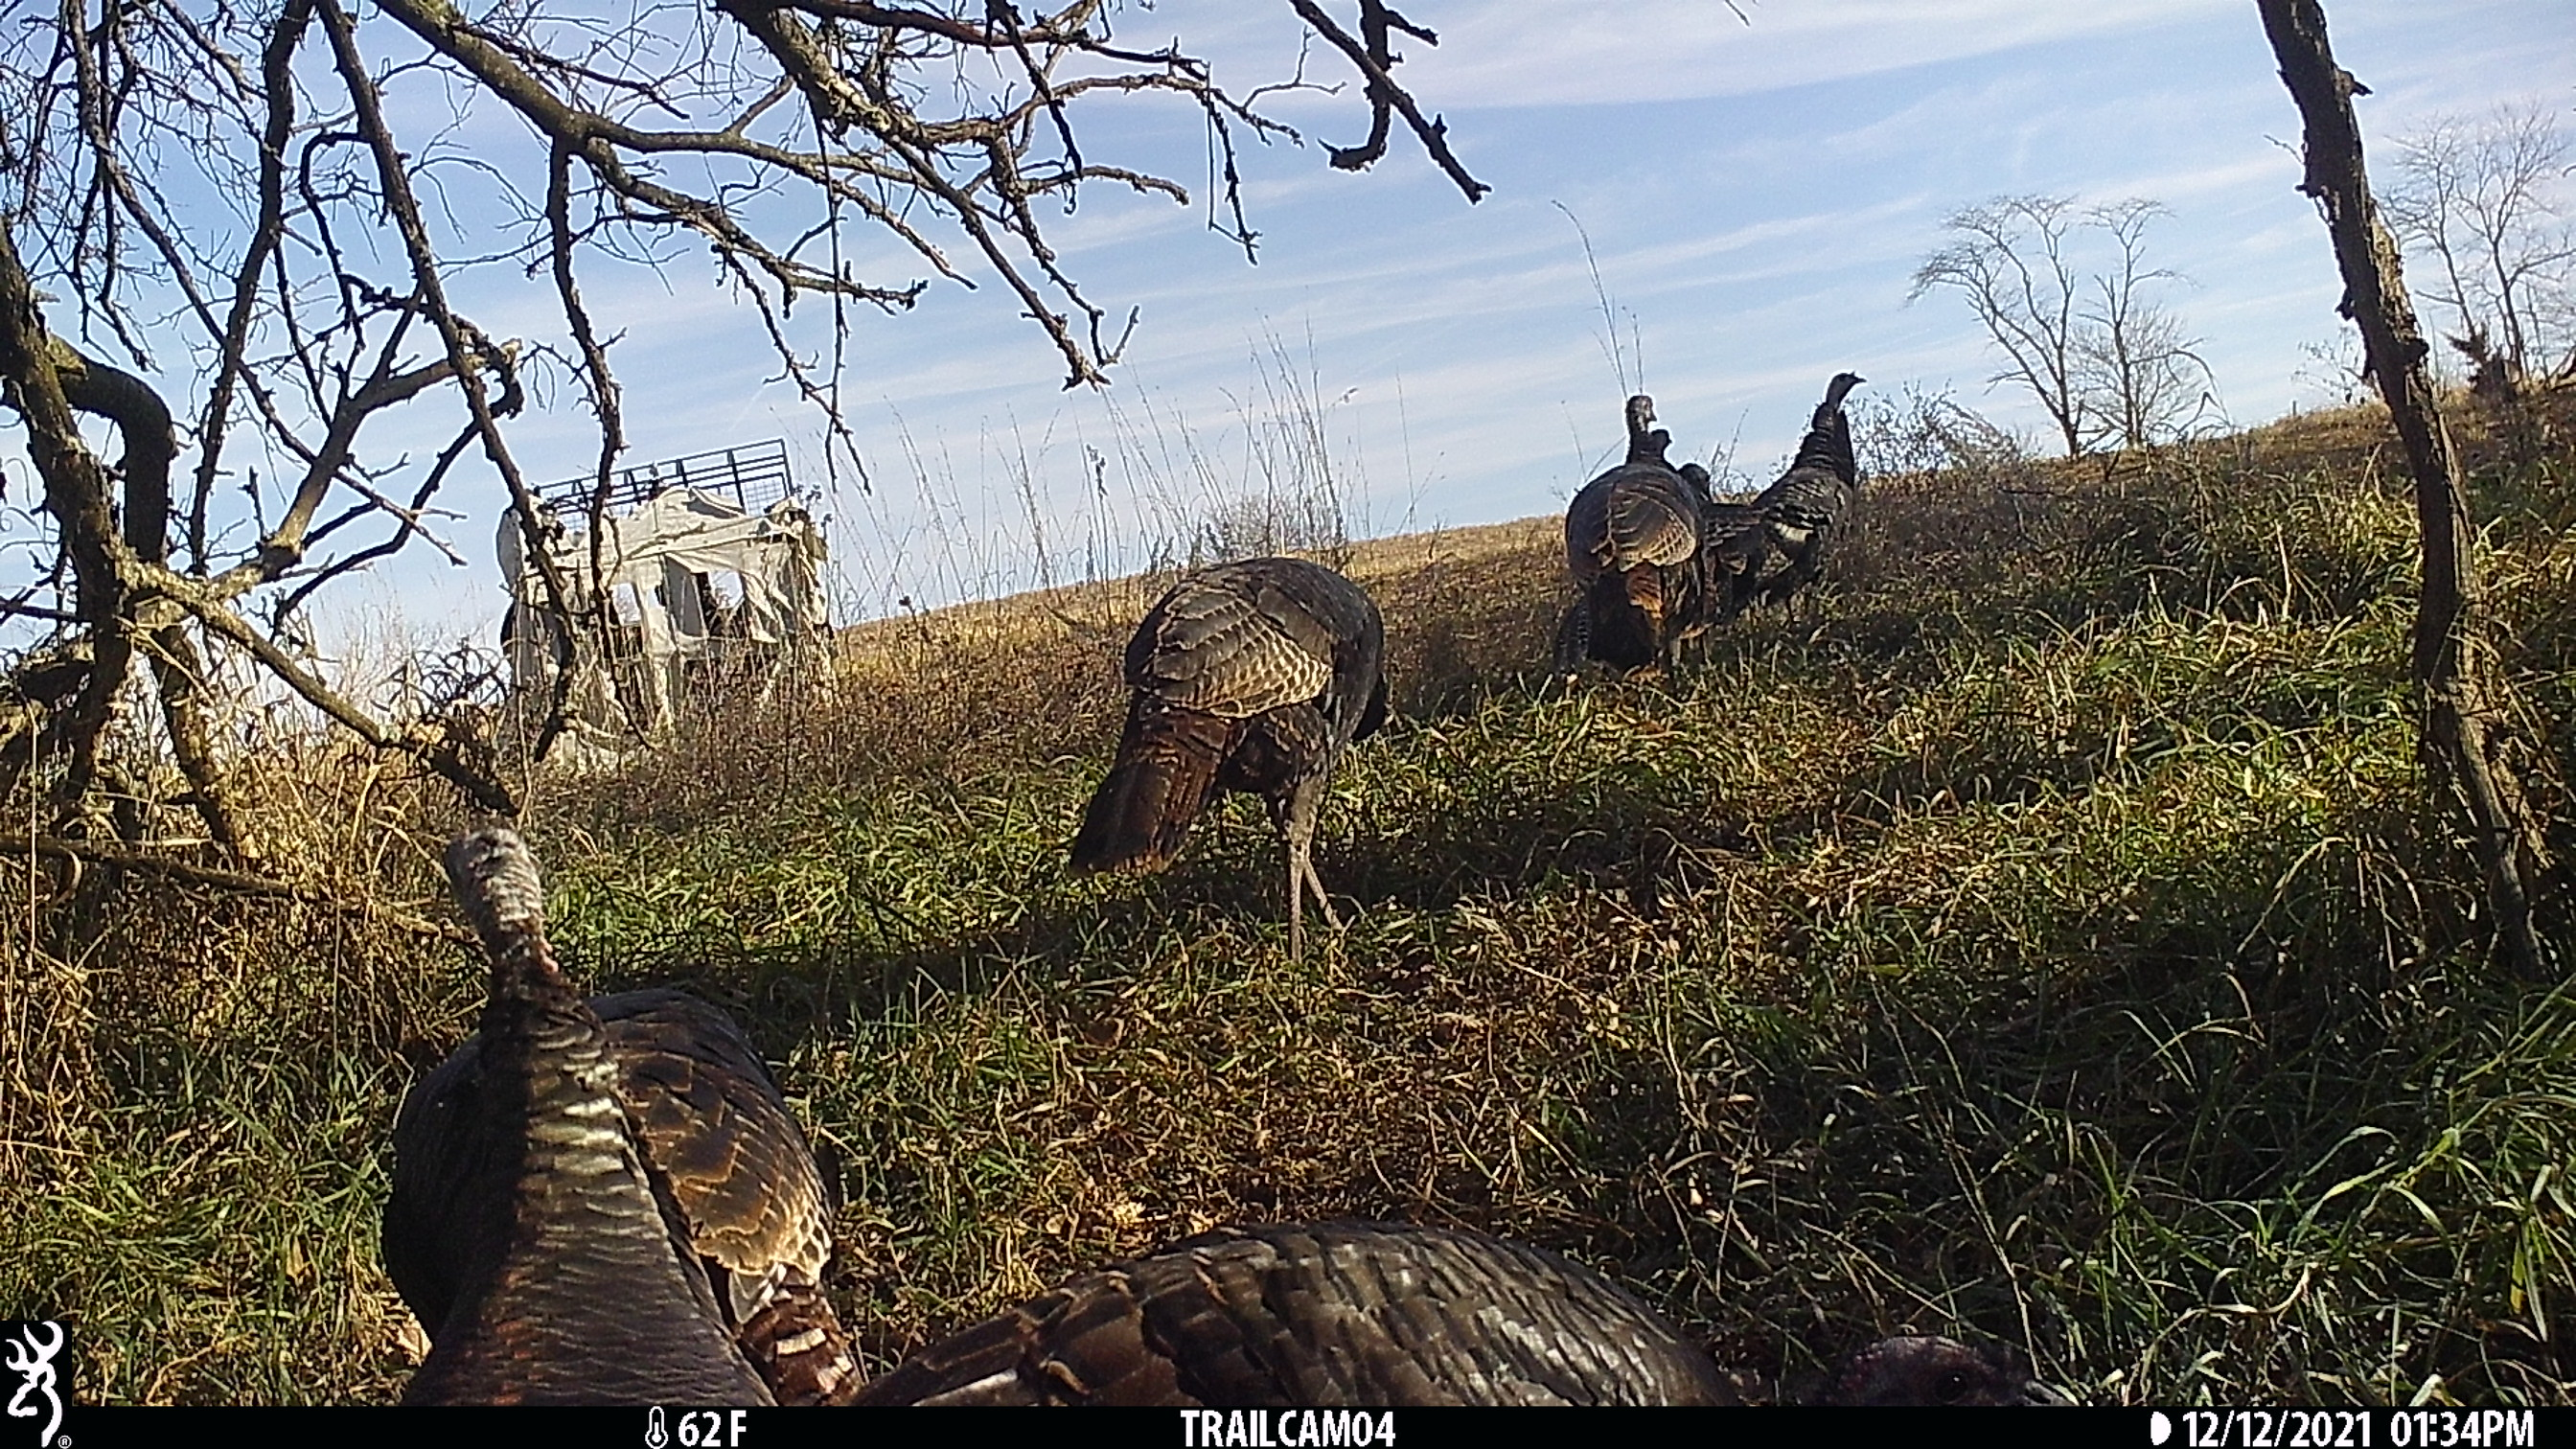Turkey: (375, 826, 863, 1407), (855, 1215, 2075, 1407), (1063, 557, 1394, 886), (1707, 370, 1875, 617), (1559, 387, 1698, 649)
